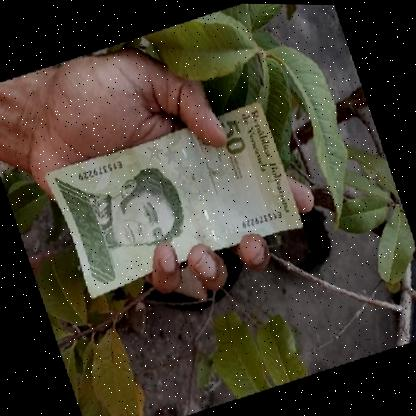fifty-front-vef: (38, 92, 309, 305)
